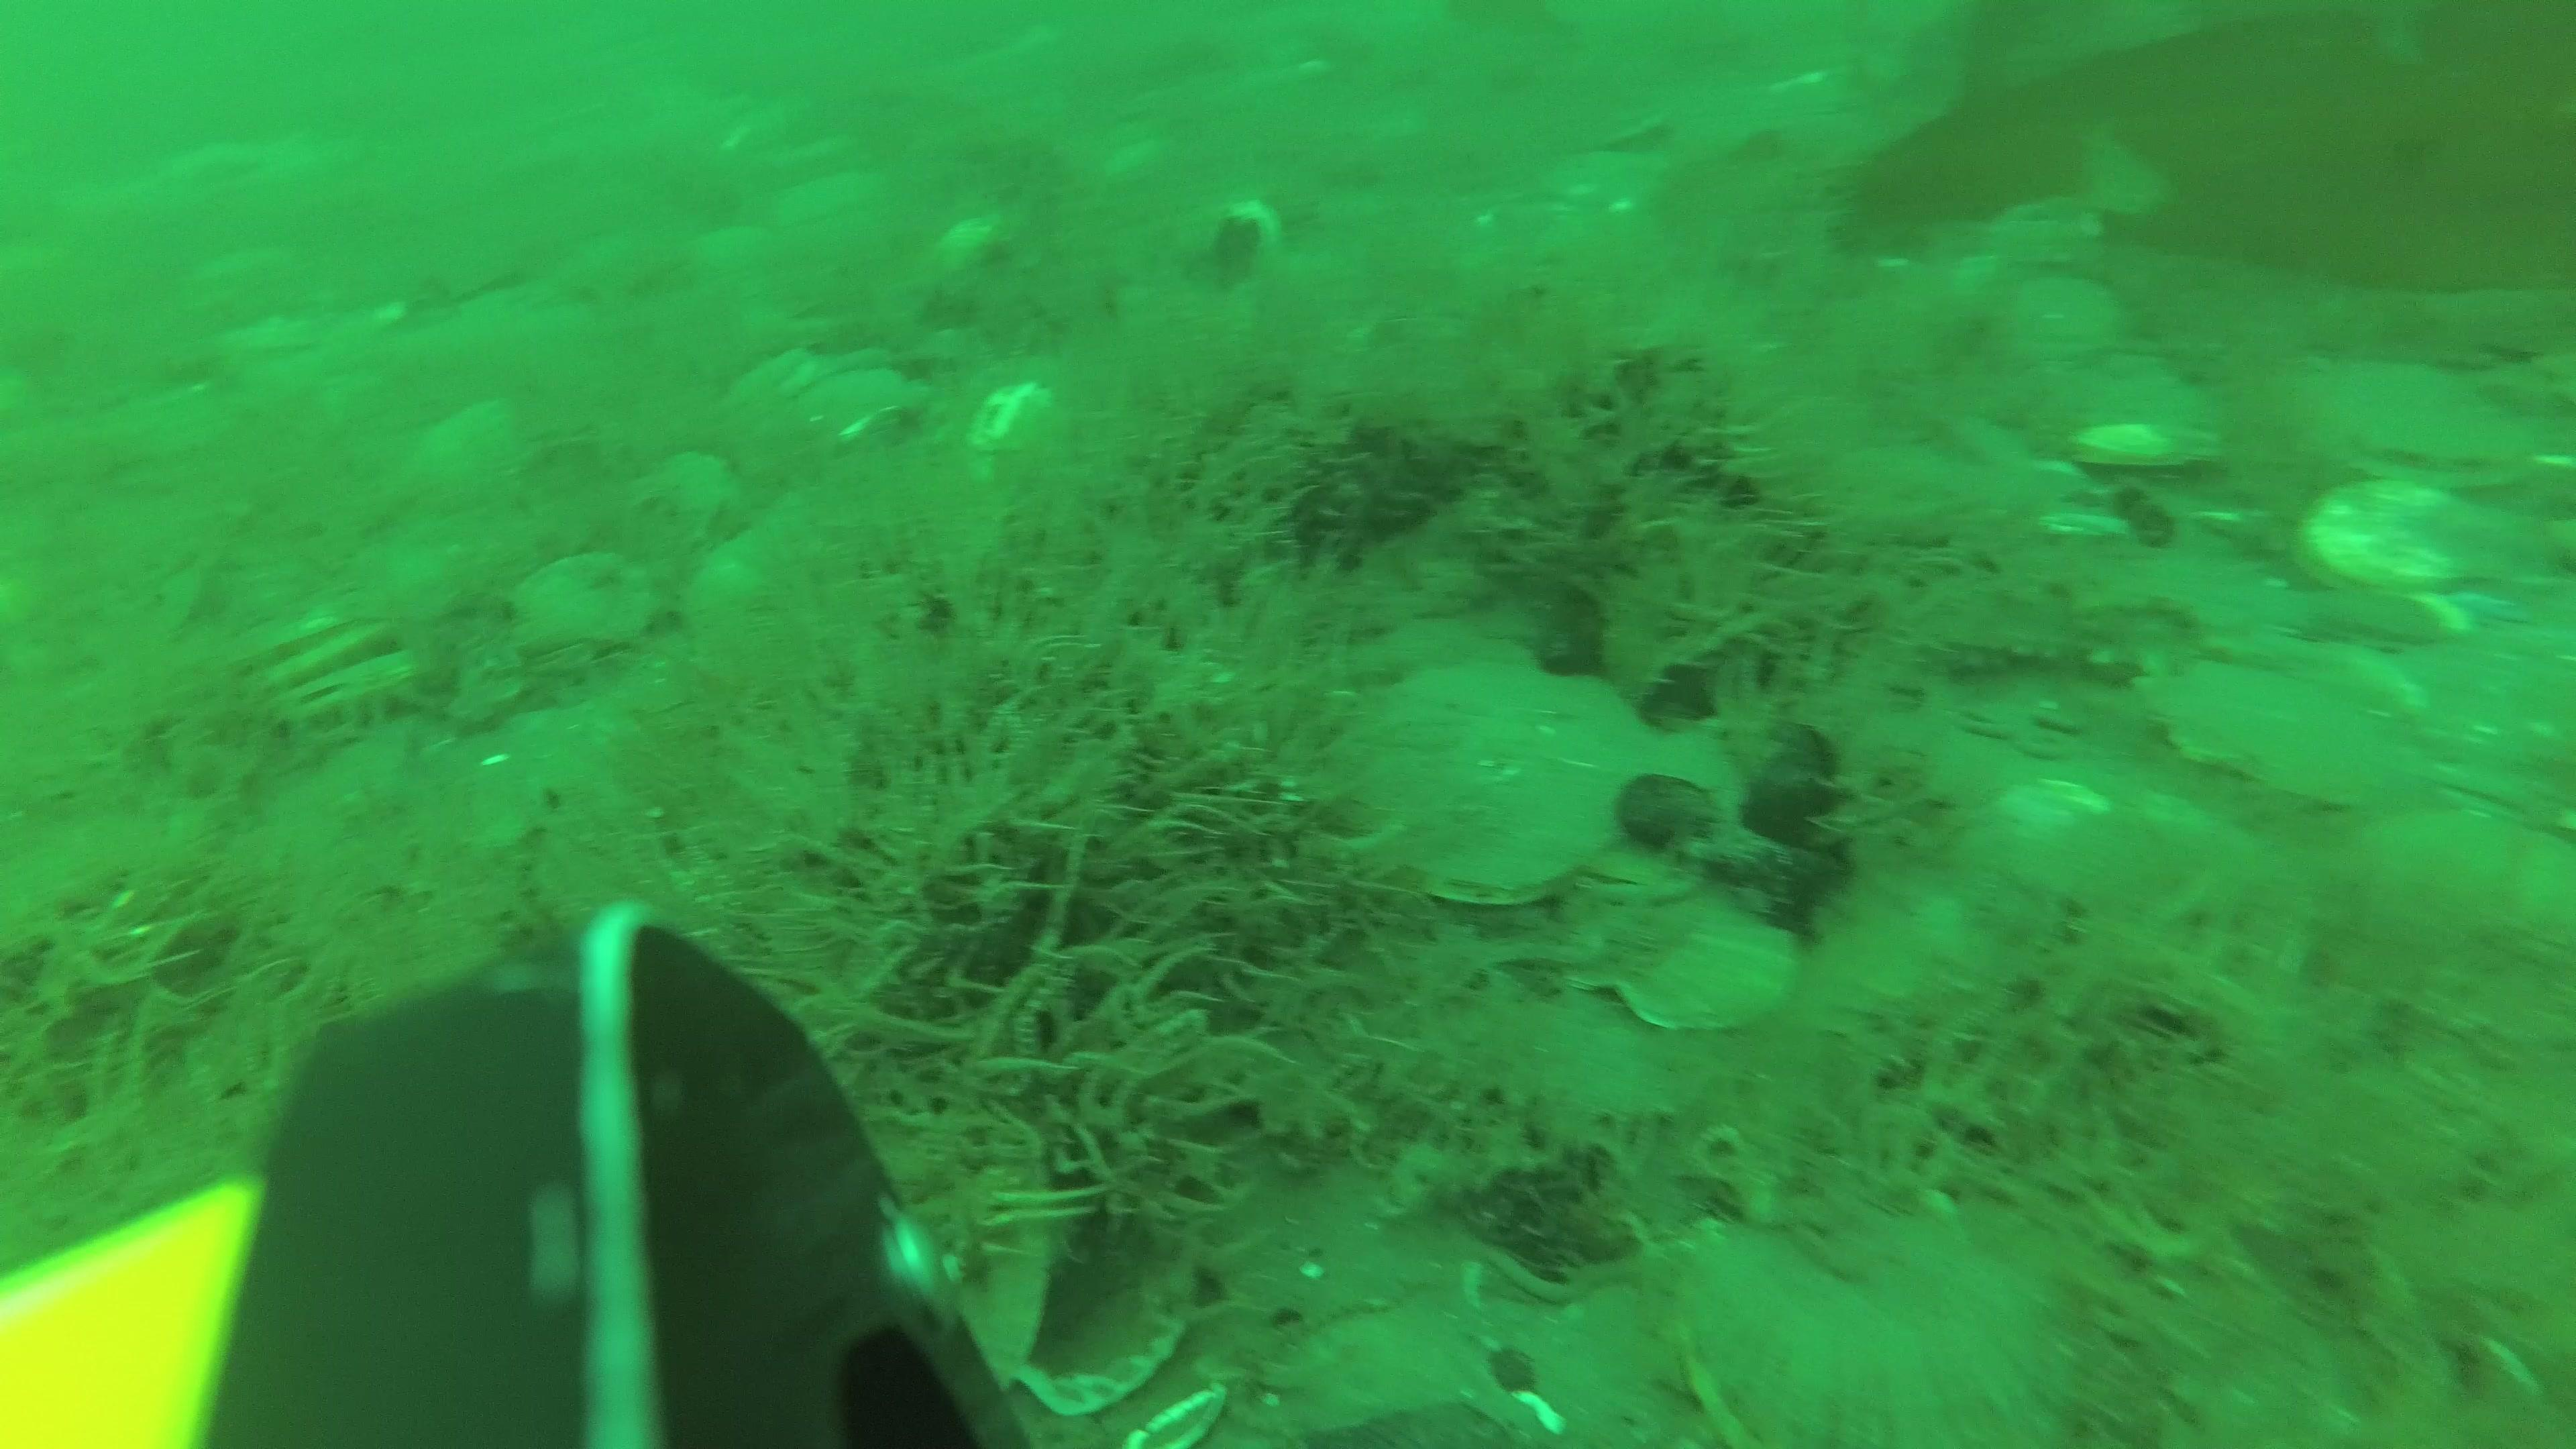holothurian: (1895, 577, 2204, 688)
scallop: (1674, 1201, 2098, 1449), (1343, 642, 1675, 916), (2141, 658, 2408, 817), (1550, 724, 1739, 920), (2358, 796, 2574, 948), (1568, 895, 1796, 1033), (2408, 619, 2576, 793), (2319, 350, 2503, 479), (2304, 481, 2496, 594), (2052, 357, 2210, 465), (513, 556, 660, 662), (1824, 439, 1959, 552), (272, 649, 421, 747), (632, 441, 743, 559), (2010, 272, 2128, 357), (258, 621, 395, 694), (1999, 205, 2120, 283), (235, 603, 347, 676)
